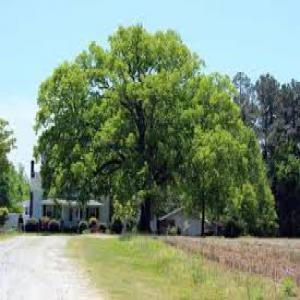Tree: (35, 20, 277, 241)
